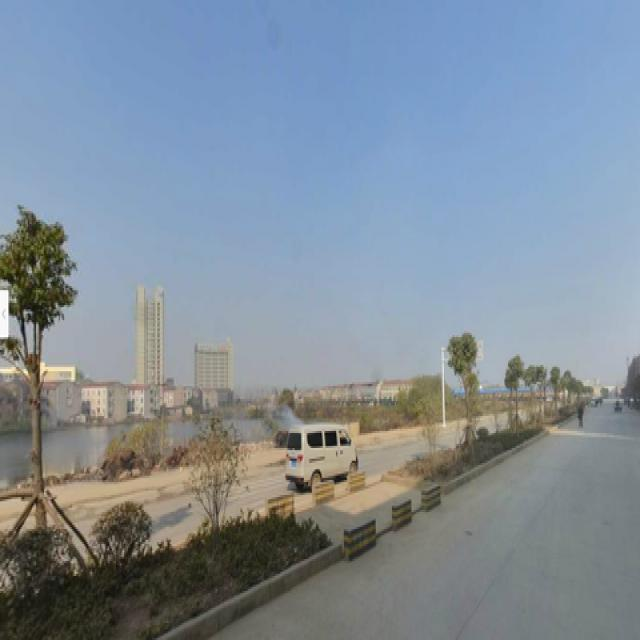cinn: (7, 224, 72, 561), (447, 335, 472, 448)
